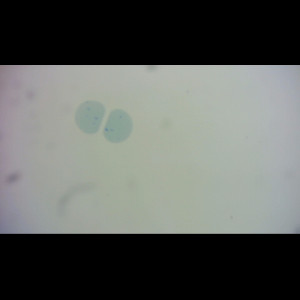punctate reticulocyte: (73, 99, 107, 134), (102, 109, 135, 145)
